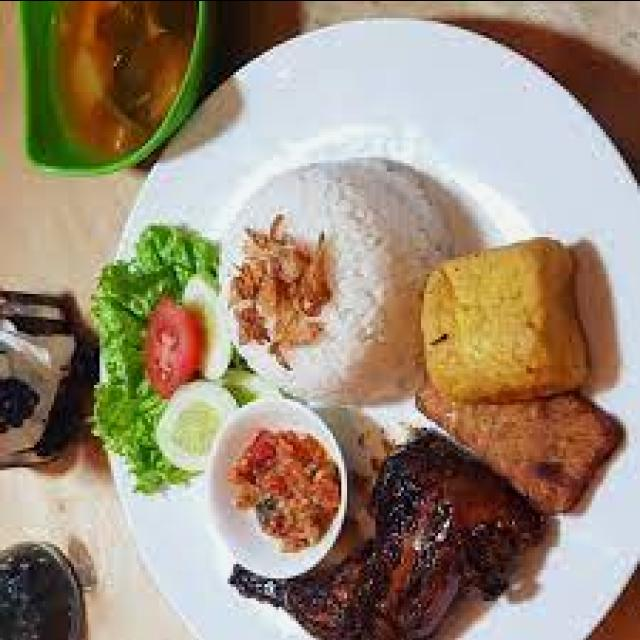ayam bakar: (230, 430, 558, 640)
nasi: (219, 154, 484, 410)
tahu goreng: (421, 236, 589, 404)
tempe goreng: (418, 378, 626, 515)
